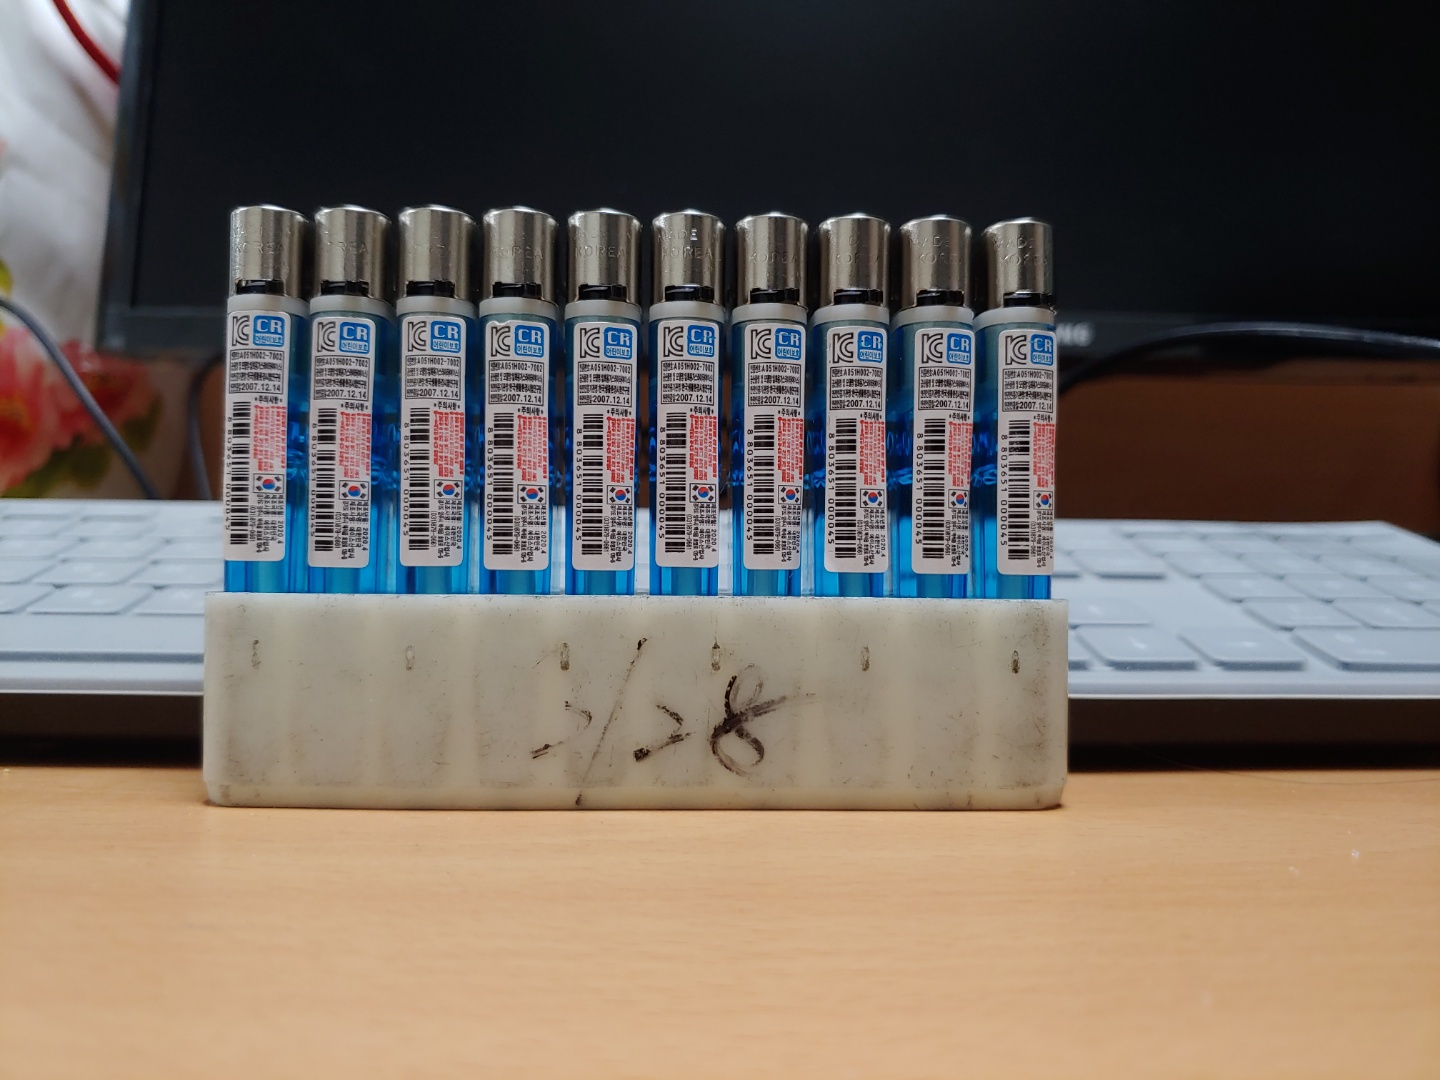lighter: (906, 324, 975, 576), (573, 320, 637, 571), (226, 311, 290, 560), (825, 326, 889, 577), (311, 314, 373, 568), (485, 318, 547, 572), (657, 319, 718, 571), (994, 327, 1056, 577), (742, 320, 802, 574), (403, 317, 461, 567)
